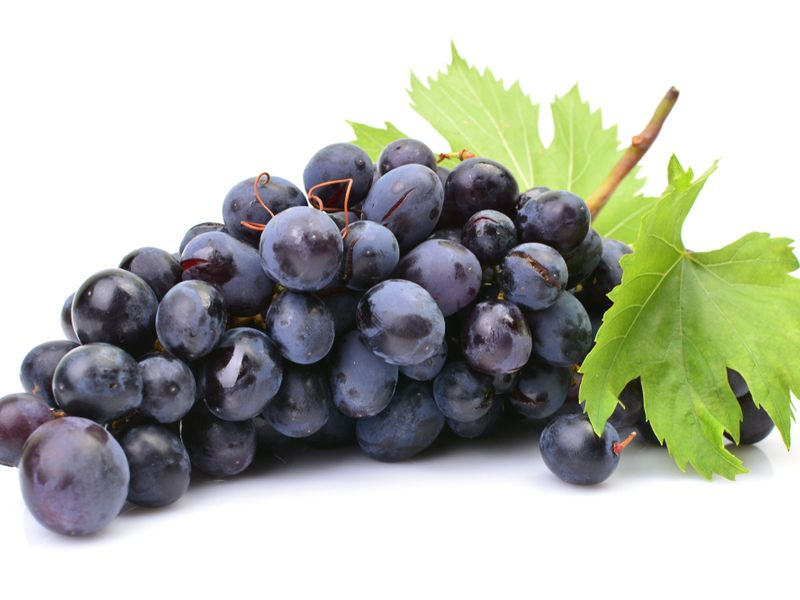Grape: (10, 95, 721, 559), (12, 417, 126, 553), (355, 283, 448, 365), (255, 197, 329, 288)
